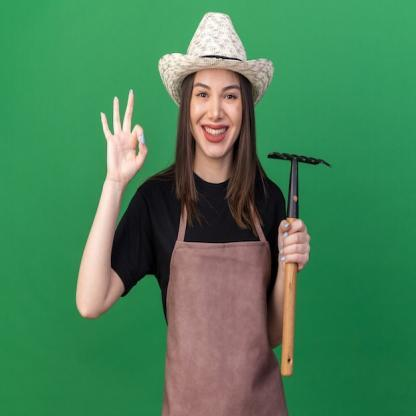ok: (100, 86, 150, 186)
